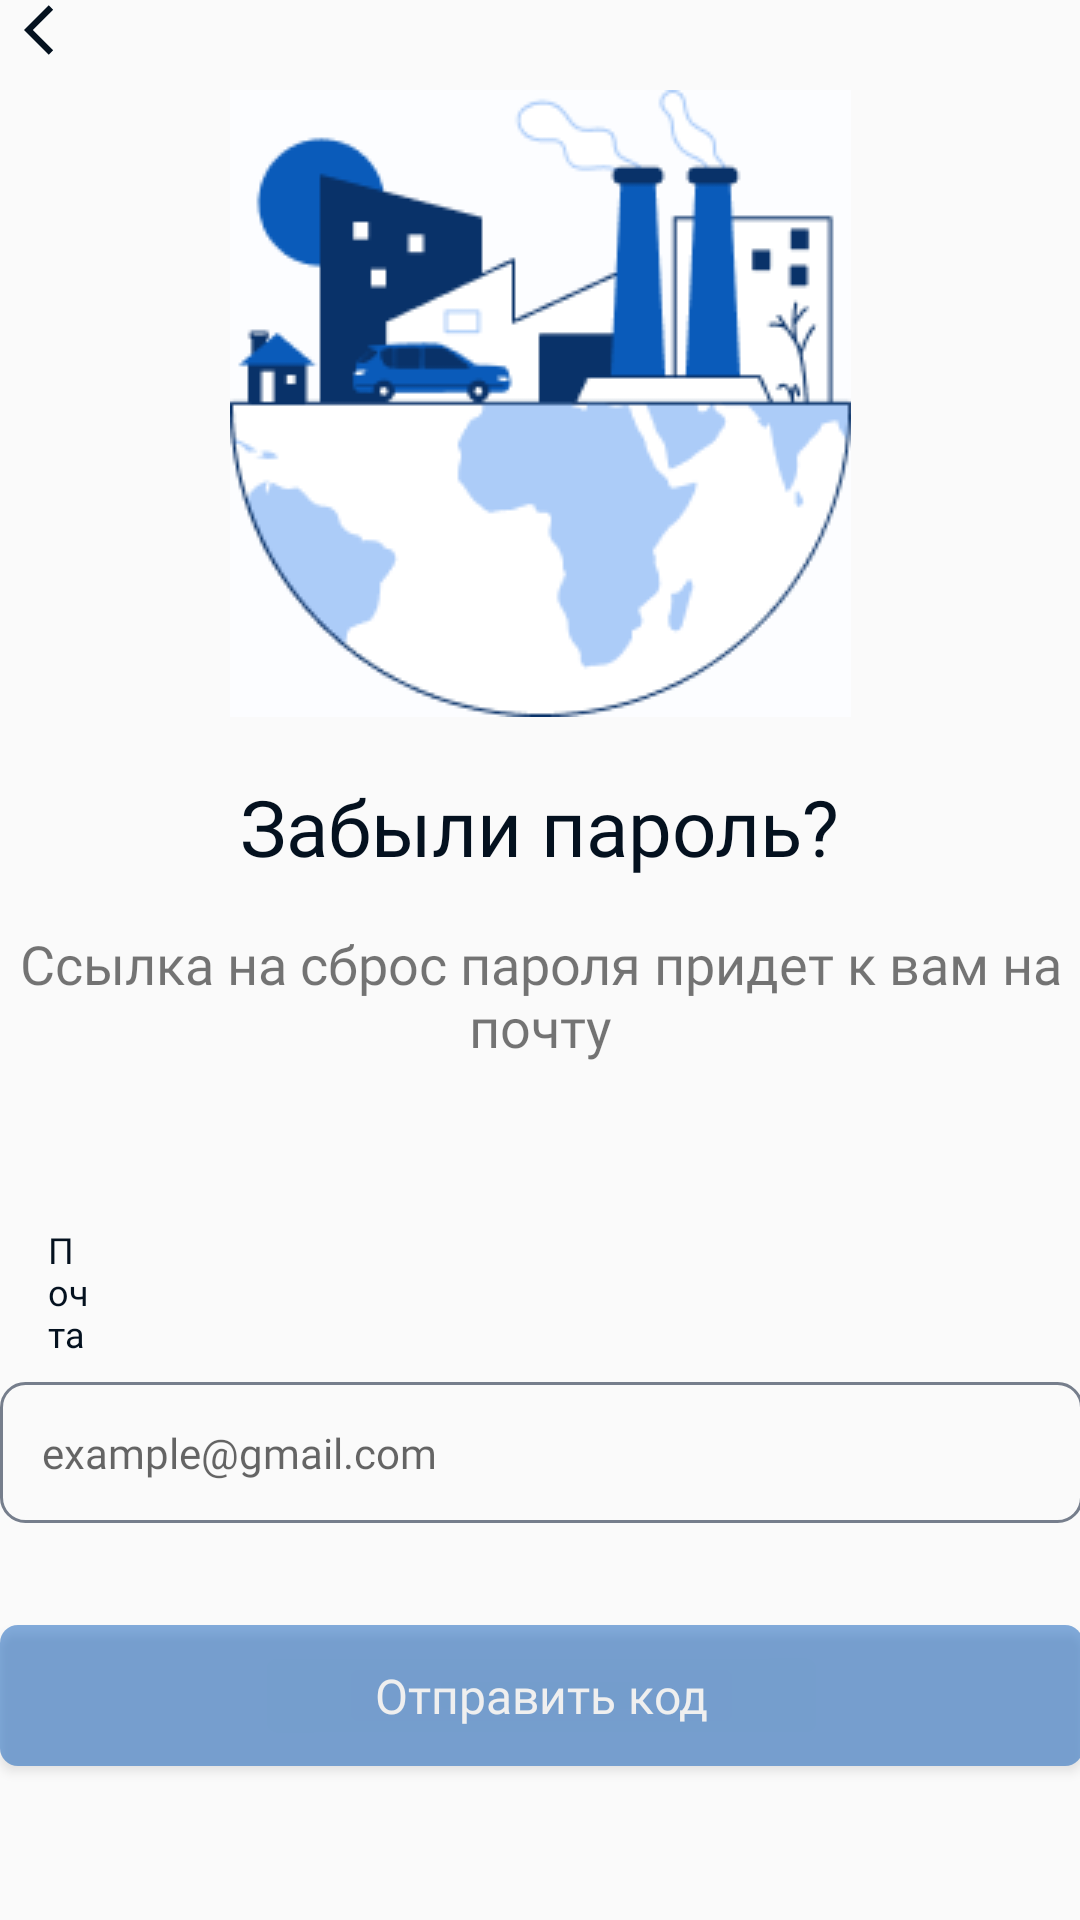

Icon bounding boxes for this 1080w x 1920h phone screenshot, format (x1, y1, x2, y2):
arrow back: (24, 5, 53, 55)
